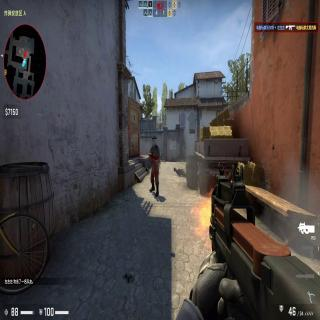T-Head: (152, 135, 156, 146), (174, 166, 176, 172)
